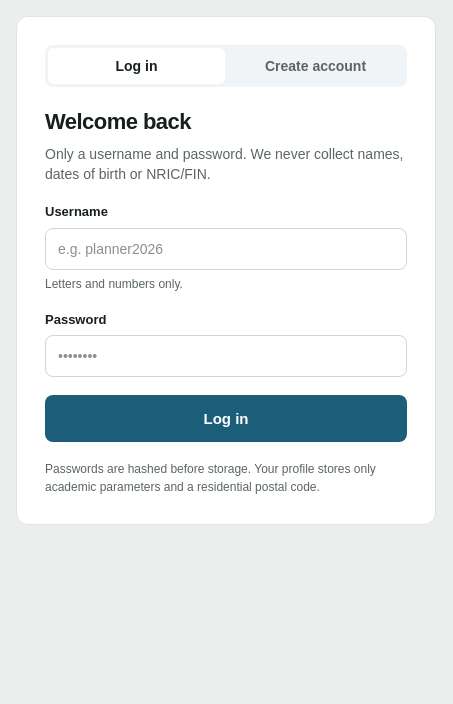
Test: LoginView (UC-2.1, UC-2.2) › create account › blocks username user*name with the prescribed message and sends nothing (REQ-2.18)
The image size is (453, 704).
Click the button "Create account" at {"x": 316, "y": 66}, box [227,48,404,84]
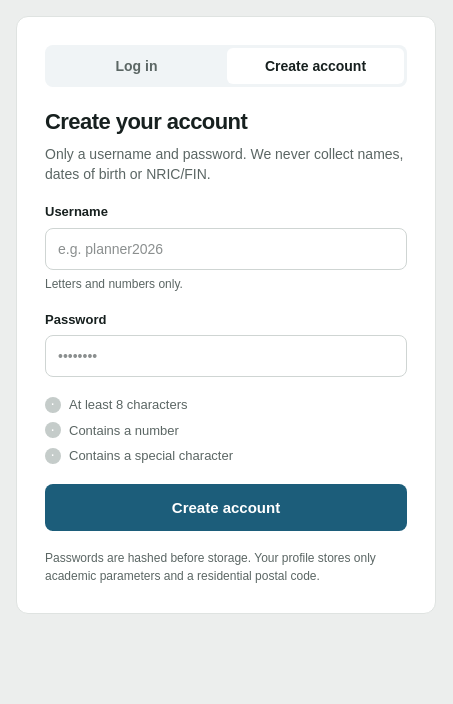
Type "user*name" into the field labelled "Username" at {"x": 226, "y": 248}, box [45,228,407,270]
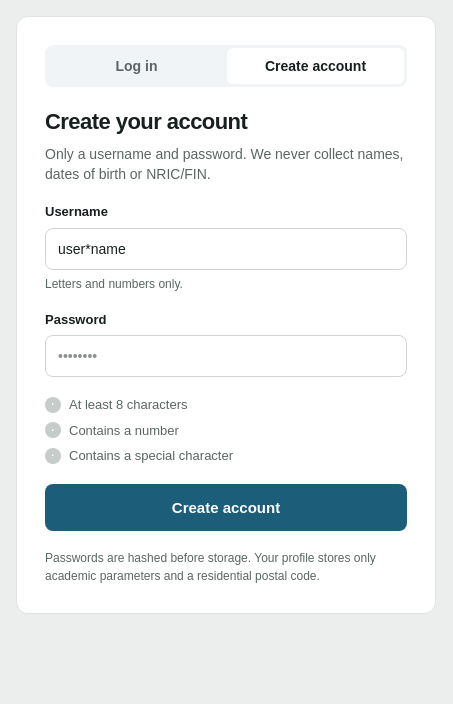
Type "abcd123!" into the password field labelled "Password" at {"x": 226, "y": 356}, box [45,335,407,377]
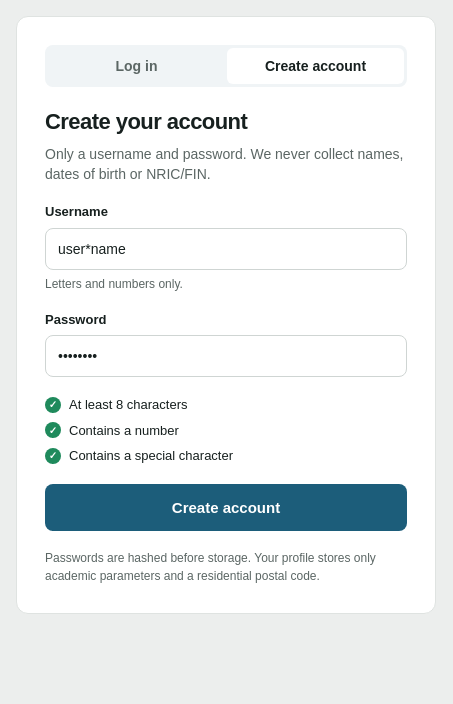
Submit the form
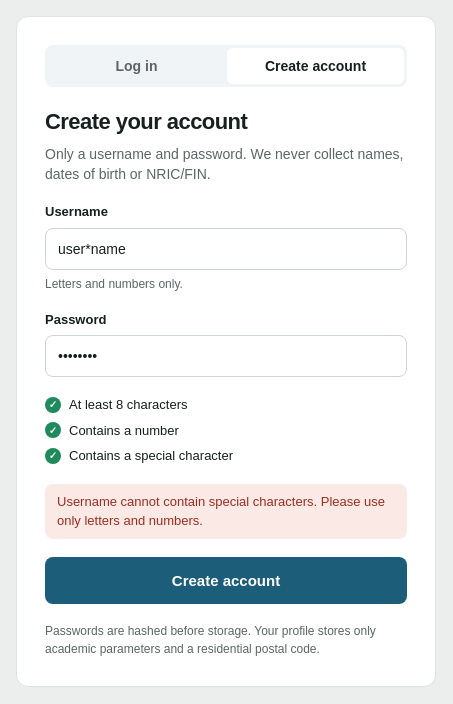
Expected: the message reads "Username cannot contain special characters. Please use only letters and numbers.", [57,494,385,528]
